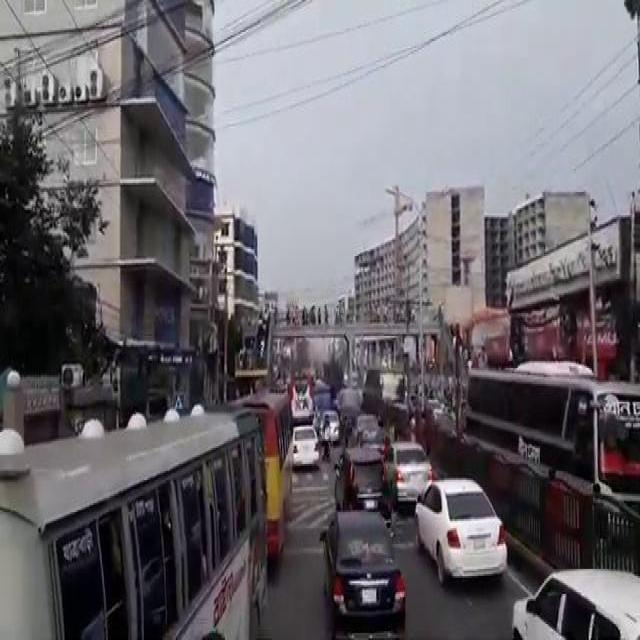Bus: (0, 402, 268, 638)
Car: (318, 506, 406, 626), (413, 475, 508, 585), (511, 567, 639, 638)
